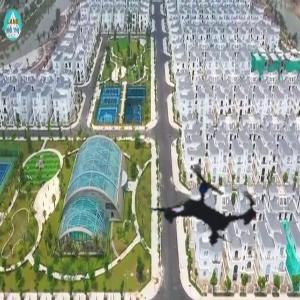drone: (128, 127, 290, 289)
